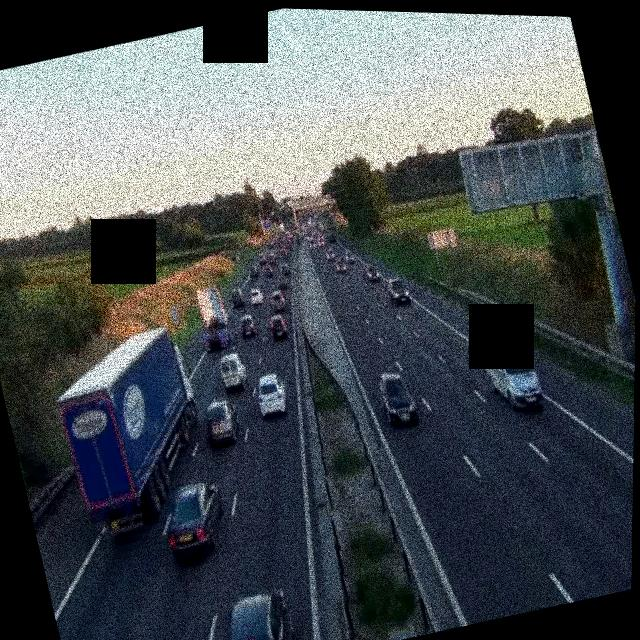car: (155, 477, 232, 562), (477, 328, 545, 418), (211, 584, 301, 640), (374, 365, 420, 429), (199, 397, 242, 448), (252, 370, 290, 419), (216, 349, 249, 391), (385, 274, 412, 308), (267, 311, 289, 340), (237, 311, 258, 339), (270, 288, 287, 312), (246, 286, 264, 308), (364, 262, 381, 283), (230, 289, 246, 308), (333, 255, 347, 274), (276, 273, 290, 290), (263, 263, 275, 277), (279, 261, 290, 276)
truck: (41, 319, 220, 539), (193, 284, 236, 351)
